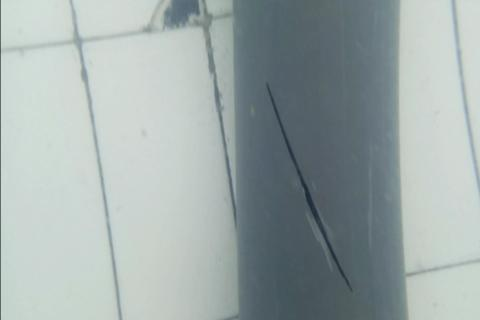keretakan: (265, 82, 354, 295)
